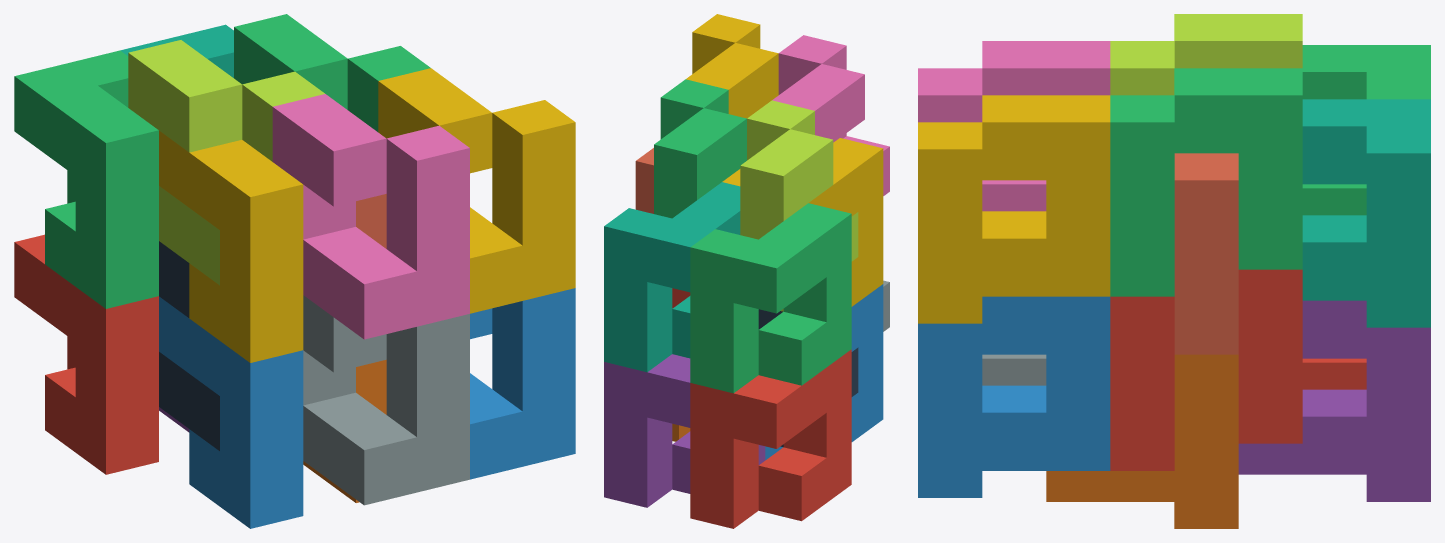
Rendered from tiling.obj.
3 renders of one model, left to right at view 1: azimuth 30°, elevation 25°; view 2: azimuth 150°, elevation 25°; view 3: azimuth 270°, elevation 25°, orthographic. The views are drawn at different scales.
Visible parts, largest first — view 1: copy_2_domain_4, copy_2_domain_2, copy_1_domain_3, copy_2_domain_8, copy_1_domain_4, copy_1_domain_1, copy_1_domain_2, copy_2_domain_6, copy_2_domain_3, copy_2_domain_7, copy_2_domain_1, copy_1_domain_7 (+2 smaller); view 2: copy_1_domain_3, copy_1_domain_1, copy_1_domain_7, copy_1_domain_5, copy_2_domain_3, copy_2_domain_7, copy_2_domain_4, copy_1_domain_4, copy_2_domain_8, copy_1_domain_2, copy_1_domain_8, copy_2_domain_1 (+1 smaller); view 3: copy_2_domain_8, copy_2_domain_6, copy_2_domain_7, copy_1_domain_7, copy_2_domain_5, copy_1_domain_5, copy_1_domain_6, copy_1_domain_8, copy_2_domain_4, copy_2_domain_3, copy_1_domain_3, copy_1_domain_1 (+1 smaller).
Boxes of the visible parts, bbox=[...] form: copy_2_domain_4: bbox=[272, 94, 469, 339]; copy_2_domain_2: bbox=[303, 295, 469, 505]; copy_1_domain_3: bbox=[14, 50, 158, 308]; copy_2_domain_8: bbox=[378, 68, 575, 313]; copy_1_domain_4: bbox=[159, 130, 303, 362]; copy_1_domain_1: bbox=[14, 234, 158, 474]; copy_1_domain_2: bbox=[159, 296, 303, 528]; copy_2_domain_6: bbox=[470, 288, 575, 479]; copy_2_domain_3: bbox=[128, 40, 324, 285]; copy_2_domain_7: bbox=[234, 14, 430, 131]; copy_2_domain_1: bbox=[159, 241, 219, 450]; copy_1_domain_7: bbox=[120, 24, 233, 77]; copy_1_domain_3: bbox=[690, 203, 851, 393]; copy_1_domain_1: bbox=[690, 349, 851, 528]; copy_1_domain_7: bbox=[604, 182, 740, 372]; copy_1_domain_5: bbox=[604, 354, 765, 507]; copy_2_domain_3: bbox=[740, 100, 858, 311]; copy_2_domain_7: bbox=[654, 79, 746, 218]; copy_2_domain_4: bbox=[772, 35, 889, 195]; copy_1_domain_4: bbox=[722, 138, 883, 306]; copy_2_domain_8: bbox=[686, 14, 778, 118]; copy_1_domain_2: bbox=[765, 284, 883, 460]; copy_1_domain_8: bbox=[635, 148, 653, 213]; copy_2_domain_1: bbox=[758, 309, 858, 447]; copy_2_domain_8: bbox=[918, 95, 1110, 323]; copy_2_domain_6: bbox=[918, 296, 1110, 497]; copy_2_domain_7: bbox=[1110, 68, 1302, 296]; copy_1_domain_7: bbox=[1302, 99, 1430, 327]; copy_2_domain_5: bbox=[1110, 269, 1302, 470]; copy_1_domain_5: bbox=[1238, 300, 1430, 501]; copy_1_domain_6: bbox=[1046, 354, 1238, 528]; copy_1_domain_8: bbox=[1174, 153, 1238, 354]; copy_2_domain_4: bbox=[918, 41, 1110, 211]; copy_2_domain_3: bbox=[1110, 14, 1302, 95]; copy_1_domain_3: bbox=[1302, 45, 1430, 215]; copy_1_domain_1: bbox=[1302, 358, 1366, 389].
Size of the model in its own units: 6 by 7 by 8.
